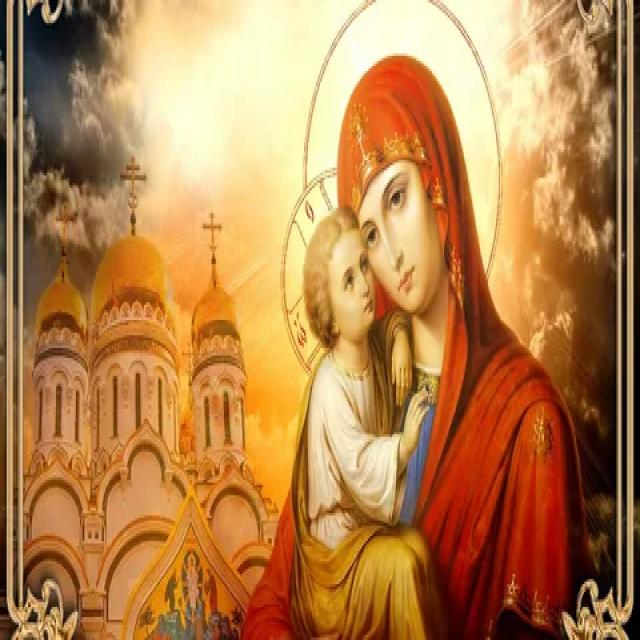mother of god: (270, 36, 586, 640)
